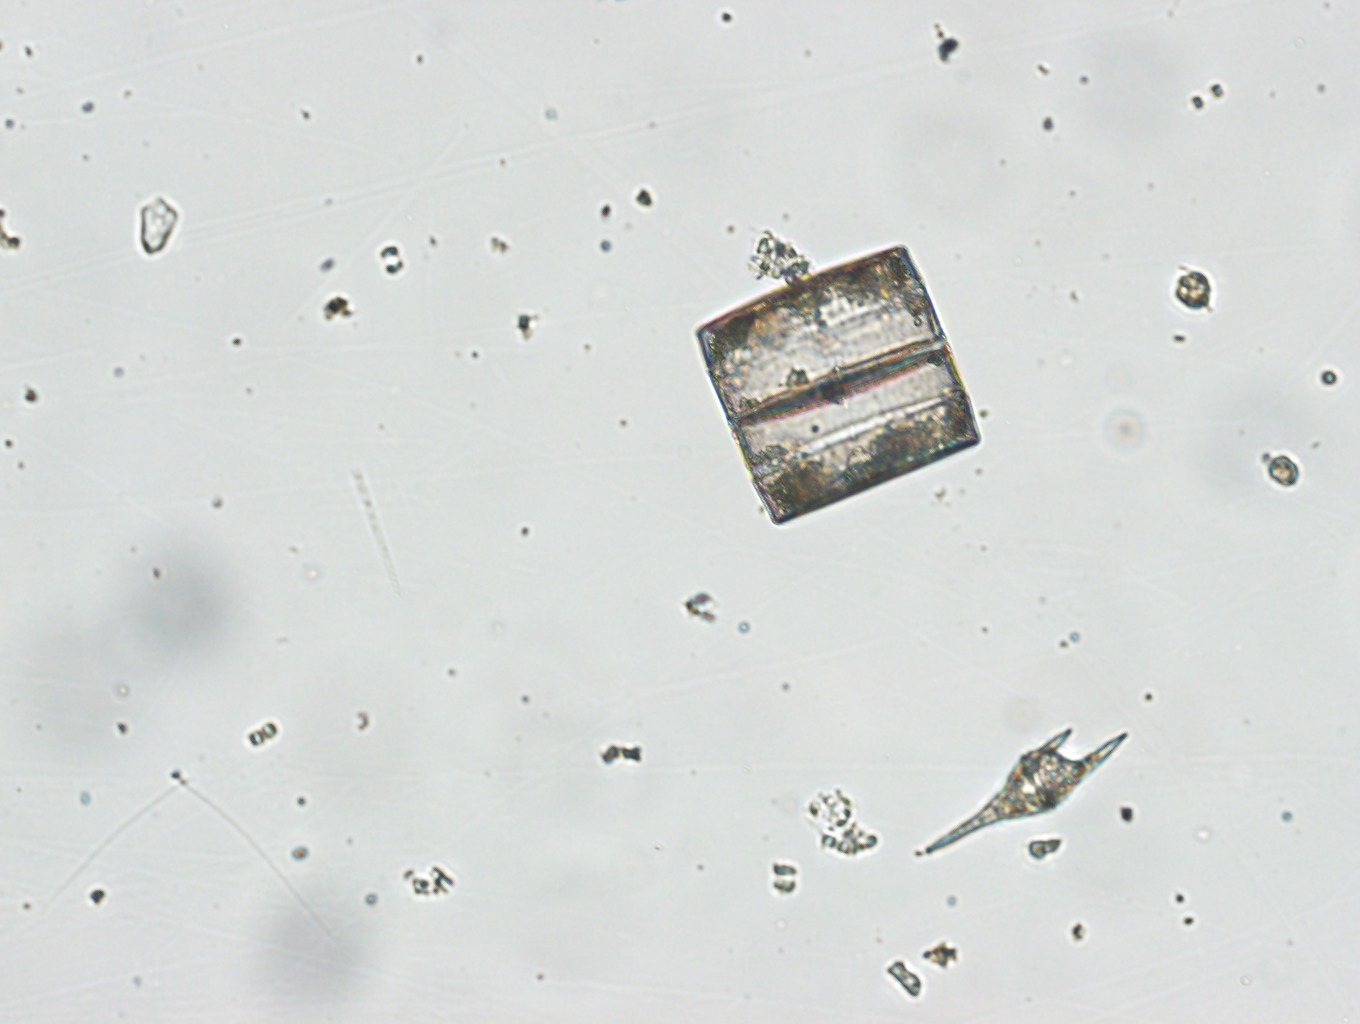ceratium furca: (907, 727, 1128, 857)
coscinodiscus flank: (695, 244, 982, 529)
